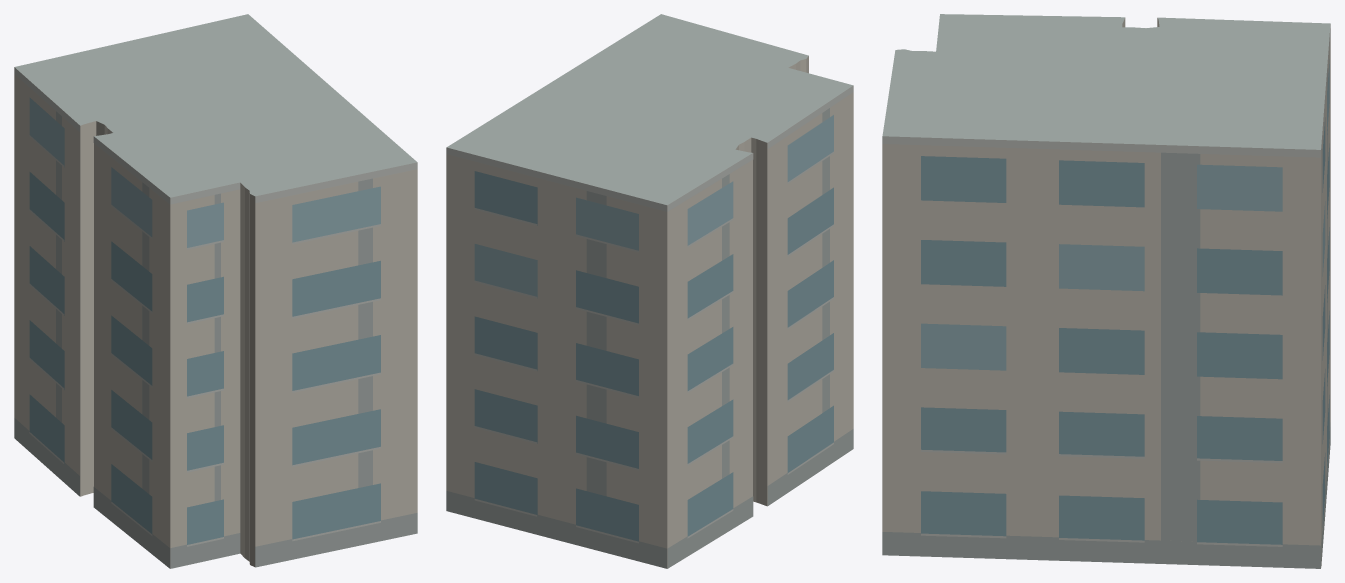
Rendered from survey-upis-32885317.glb.
The picture shows the model from 3 angles, left to right: view 1: azimuth 30°, elevation 25°; view 2: azimuth 150°, elevation 25°; view 3: azimuth 270°, elevation 25°; orthographic projection. The views are drawn at different scales.
Parts seen in each view (by area): view 1: survey-upis-32885317.tmp; view 2: survey-upis-32885317.tmp; view 3: survey-upis-32885317.tmp.
Part boxes in pixels (x1=…): survey-upis-32885317.tmp: x1=14, y1=14, x2=417, y2=568; survey-upis-32885317.tmp: x1=446, y1=14, x2=853, y2=568; survey-upis-32885317.tmp: x1=882, y1=14, x2=1330, y2=568.
Size of the model in its own units: 9.23 by 13.25 by 12.86.
